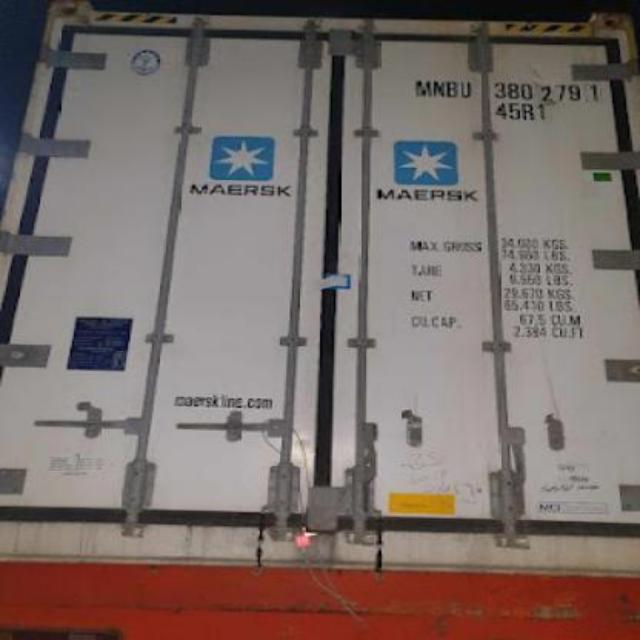0: (520, 83, 534, 101)
1: (588, 83, 600, 101)
2: (538, 84, 554, 102)
3: (492, 81, 506, 101)
7: (552, 84, 566, 100)
8: (506, 81, 520, 101)
9: (566, 82, 584, 102)
B: (446, 79, 459, 99)
M: (414, 79, 434, 97)
N: (432, 79, 446, 99)
U: (458, 79, 474, 97)
